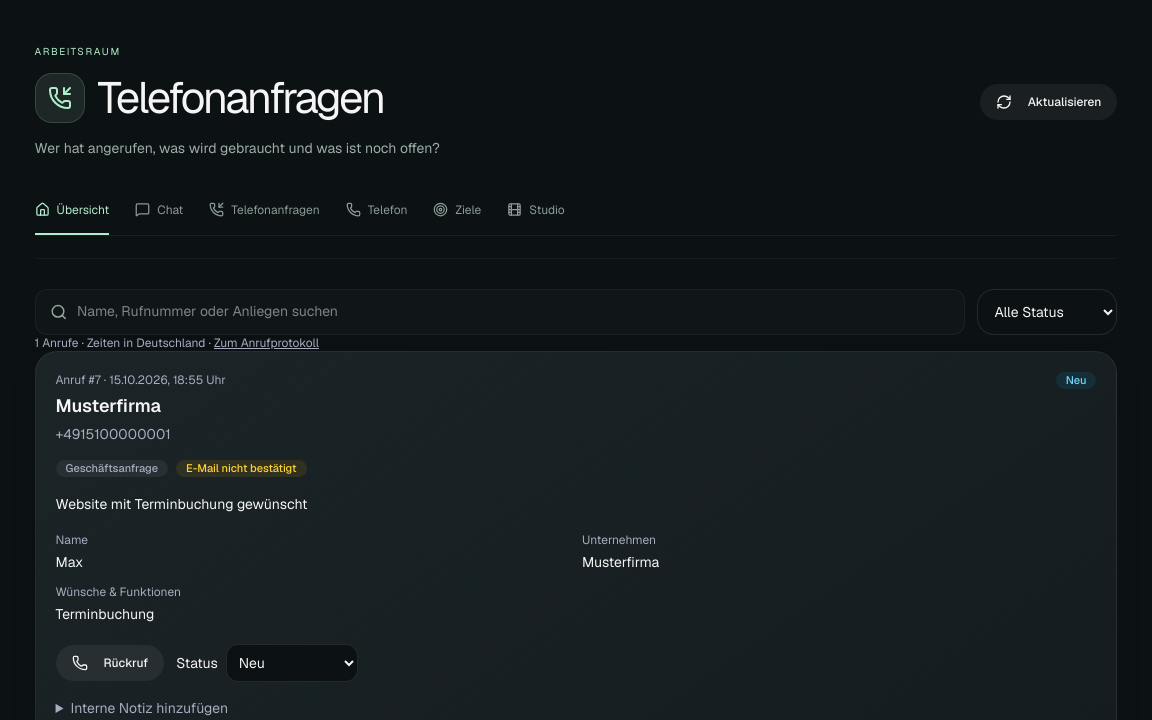
Scenario: Telefonanfragen › preserves notes and shows error when saving fails
This screenshot has width=1152, height=720.
Expected: the heading "Musterfirma" is shown, [56,394,161,417]
Click the heading "Interne Notiz hinzufügen" at (149, 708), box [70,699,228,717]
(page scrolled)
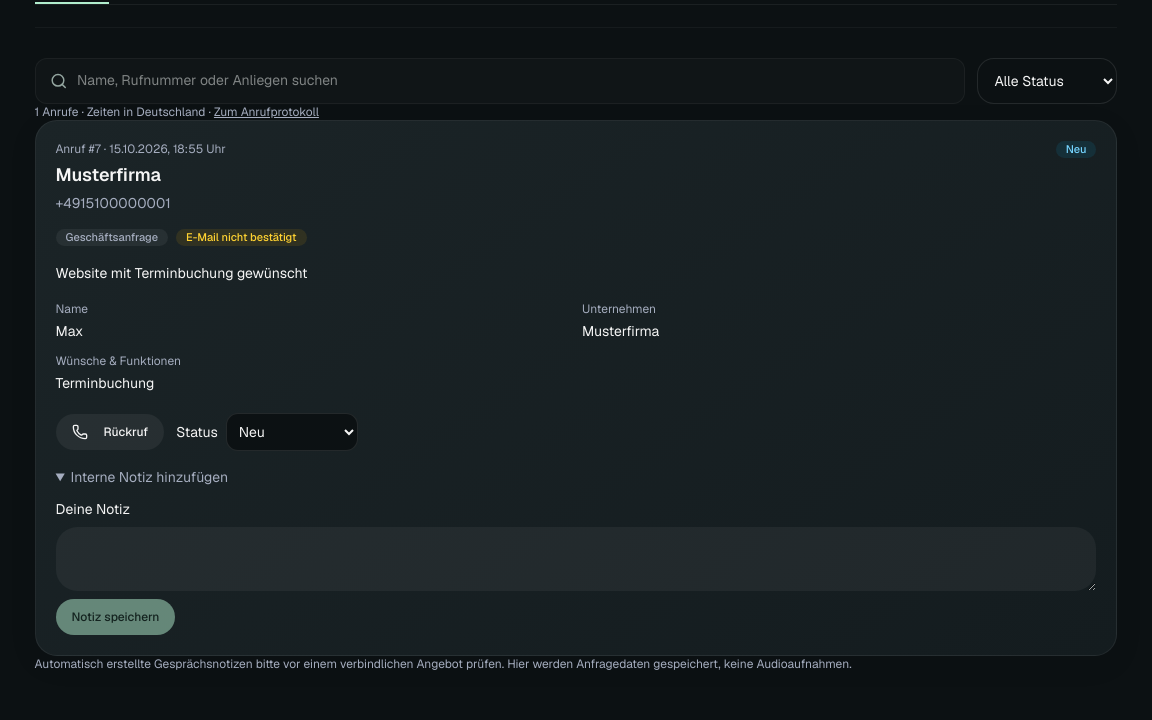
Type "Morgen zurückrufen" into the text box labelled "Deine Notiz" at (576, 559), box [56,527,1096,591]
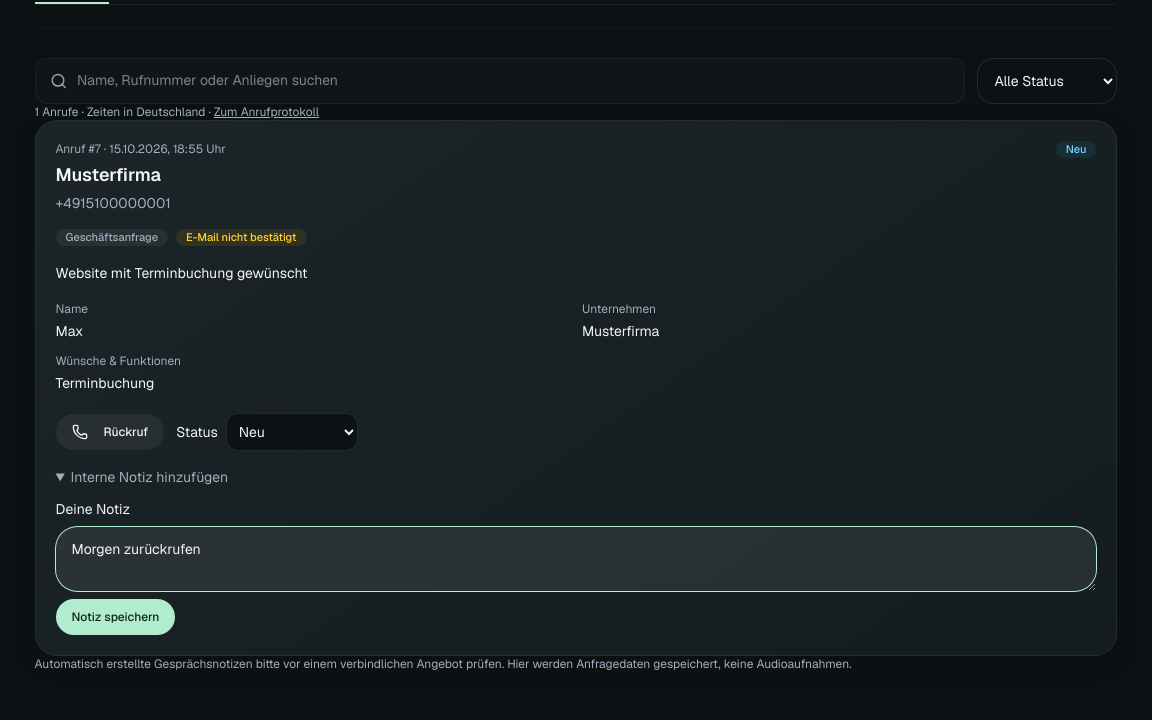
Click the button "Notiz speichern" at (115, 617), box [56,599,175,635]
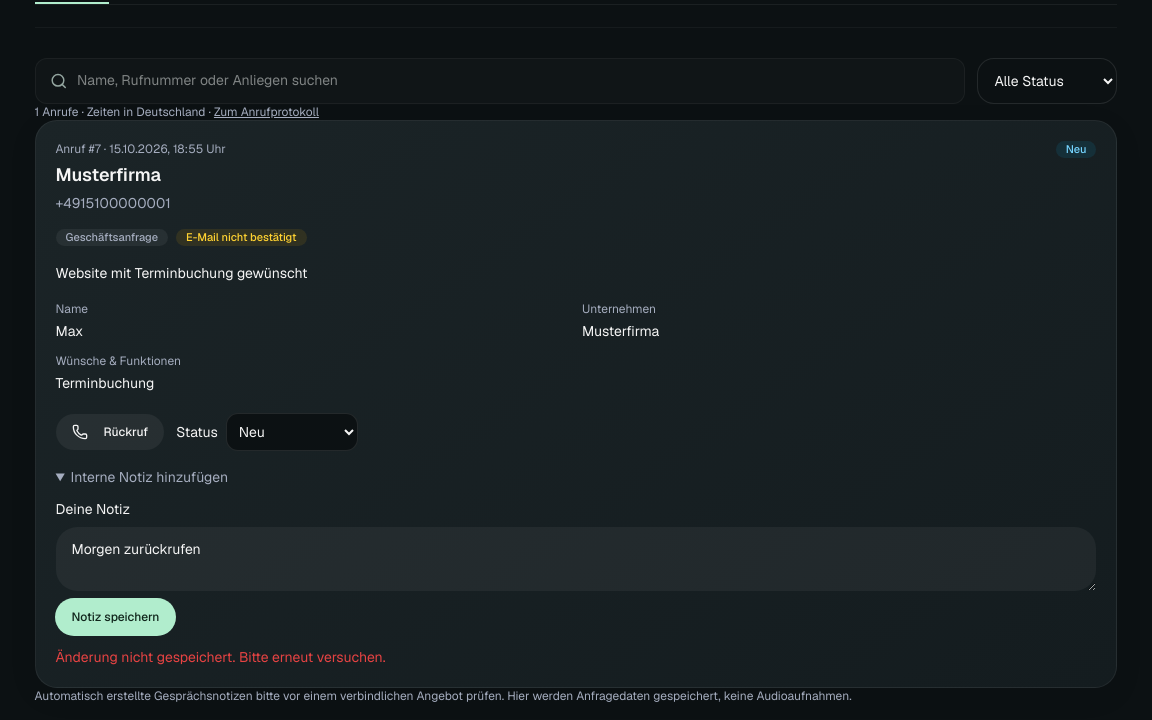
Expected: the message shows "Änderung nicht gespeichert", [56,648,386,666]
